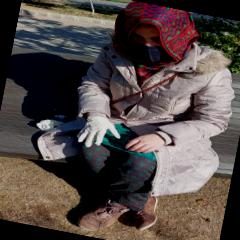gloved: (76, 113, 122, 152)
not-gloved: (120, 128, 166, 158)
